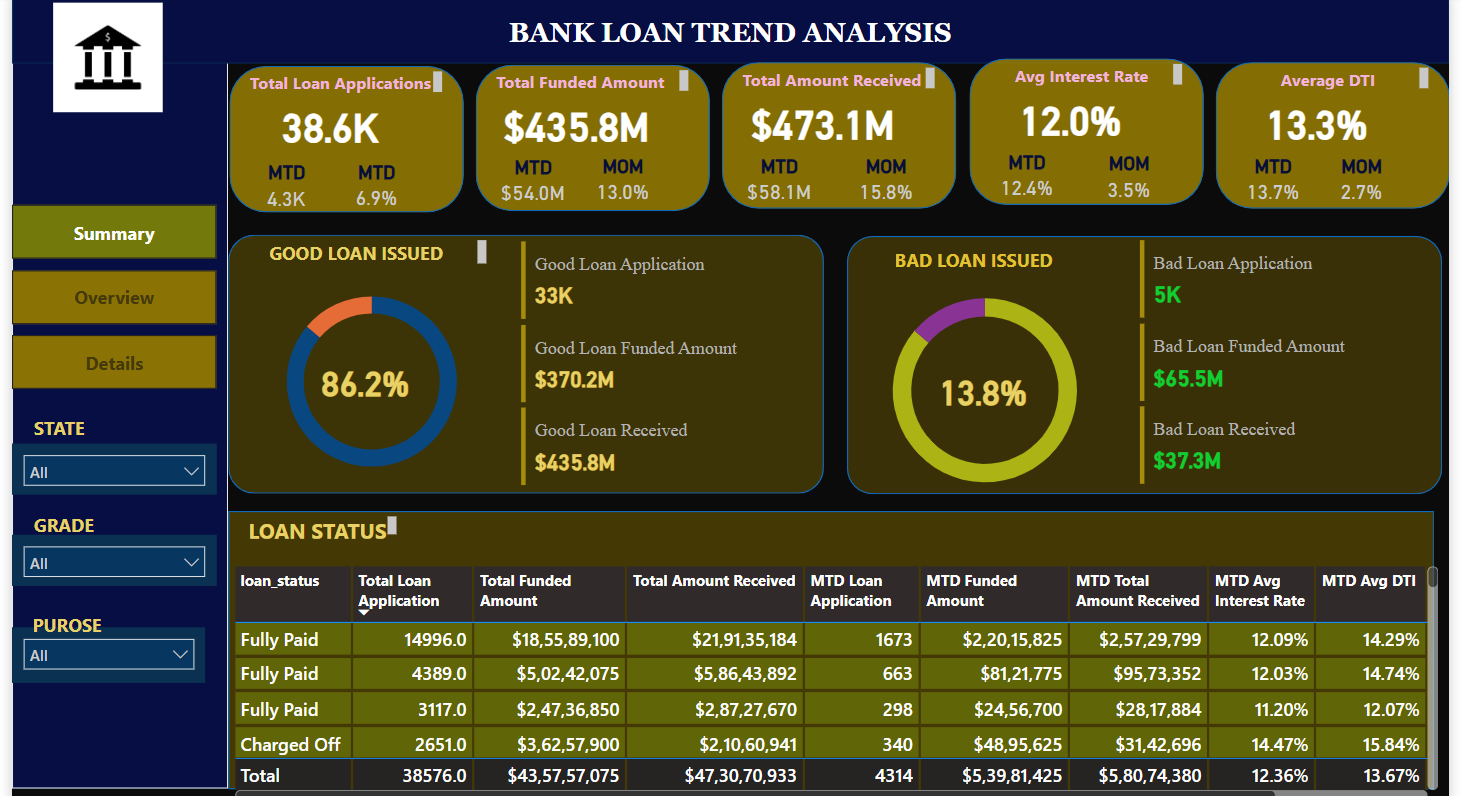

What the dashboard file says about the page in this screenshot:
{"tool":"powerbi","page":{"name":"Summary","canvas":[1280,720],"ordinal":0},"visuals":[{"type":"shape","box":[0,46.7,192.4,659.2],"z":0},{"type":"shape","box":[852.2,56,208.6,130.4],"z":0,"group":"g4"},{"type":"shape","box":[632.5,58.8,208.6,130.4],"z":0,"group":"g3"},{"type":"shape","box":[1071.5,58.8,208.6,130.4],"z":0,"group":"g5"},{"type":"shape","box":[412.9,61.6,208.6,130.4],"z":0,"group":"g2"},{"type":"shape","box":[193.8,62.2,208.6,130.4],"z":0,"group":"g1"},{"type":"card","fields":{"Values":["Bank_loan_data.Avg Interest Rate"]},"box":[864.5,84.8,155.1,48],"z":1000,"group":"g4"},{"type":"card","fields":{"Values":["Bank_loan_data.Total Amount Received"]},"box":[644.8,87.6,155.1,48],"z":1000,"group":"g3"},{"type":"card","fields":{"Values":["Bank_loan_data.Avg DTI"]},"box":[1083.8,87.6,155.1,48],"z":1000,"group":"g5"},{"type":"card","fields":{"Values":["Bank_loan_data.Total Funded Amount"]},"box":[425.2,90.4,155.1,48],"z":1000,"group":"g2"},{"type":"card","fields":{"Values":["Bank_loan_data.Total Loan Application"]},"box":[206.1,91,155.1,48],"z":1000,"group":"g1"},{"type":"shape","box":[744.1,213.6,530,230],"z":1000},{"type":"shape","box":[0,0,1280.3,60.4],"z":2000},{"type":"textbox","box":[865.9,56,181.1,28.8],"z":2000,"group":"g4"},{"type":"textbox","box":[646.2,58.8,181.1,28.8],"z":2000,"group":"g3"},{"type":"textbox","box":[1085.2,58.8,181.1,28.8],"z":2000,"group":"g5"},{"type":"textbox","box":[426.6,61.6,181.1,28.8],"z":2000,"group":"g2"},{"type":"textbox","box":[207.5,62.2,181.1,28.8],"z":2000,"group":"g1"},{"type":"card","title":"MTD","fields":{"Values":["Bank_loan_data.MTD Avg Interest Rate"]},"box":[865.9,138.3,75.5,48],"z":3000,"group":"g4"},{"type":"card","title":"MTD","fields":{"Values":["Bank_loan_data.MTD Total Amount Received"]},"box":[646.2,141.1,75.5,48],"z":3000,"group":"g3"},{"type":"card","title":"MTD","fields":{"Values":["Bank_loan_data.MTD Avg DTI"]},"box":[1085.2,141.1,75.5,48],"z":3000,"group":"g5"},{"type":"card","title":"MTD","fields":{"Values":["Bank_loan_data.MTD Loan Application"]},"box":[207.4,147.2,75,45.3],"z":3000,"group":"g1"},{"type":"card","fields":{"Values":["Bank_loan_data.Bad Loan percentage"]},"box":[816.3,326.8,97.6,48.1],"z":3000},{"type":"shape","box":[192.4,212.2,530.5,230.6],"z":4000},{"type":"card","fields":{"Values":["Bank_loan_data.Good Loan percentage"]},"box":[267.4,319.7,94.8,48.1],"z":5000},{"type":"textbox","box":[400.7,13.7,477.5,46.7],"z":6000},{"type":"group","id":"g1","title":"Group 1","box":[193.8,62.2,208,130.2],"z":7000},{"type":"card","title":"MTD","fields":{"Values":["Bank_loan_data.MOM Loan Application"]},"box":[287.2,147.1,75,48.1],"z":8000},{"type":"group","id":"g2","title":"Group 1","box":[412.9,61.6,208.6,130.4],"z":9000},{"type":"donutChart","fields":{"Category":["Bank_loan_data.Good vs Bad Loan"],"Y":["Bank_loan_data.Total Loan Application"]},"box":[741.3,243.3,250.4,215],"z":10000},{"type":"group","id":"g3","title":"Group 1","box":[632.5,58.8,208.6,130.4],"z":11000},{"type":"group","id":"g4","title":"Group 1","box":[852.2,56,208.5,130.1],"z":12000},{"type":"group","id":"g5","title":"Group 1","box":[1071.5,58.8,208.5,130.1],"z":13000},{"type":"card","title":"MTD","fields":{"Values":["Bank_loan_data.MTD Funded Amount"]},"box":[426.8,142.7,75.6,47.6],"z":14000},{"type":"card","title":"MOM","fields":{"Values":["Bank_loan_data.MOM funnded Amount"]},"box":[506.5,141.5,75,48.1],"z":15000},{"type":"card","title":"MOM","fields":{"Values":["Bank_loan_data.MOM Amount Received"]},"box":[739.9,141.5,76.4,48.1],"z":16000},{"type":"card","title":"MOM","fields":{"Values":["Bank_loan_data.MOM Avg Interest Rate"]},"box":[957.7,138.6,75,48.1],"z":17000},{"type":"card","title":"MOM","fields":{"Values":["Bank_loan_data.MOM Avg DTI"]},"box":[1164.3,141.5,75,48.1],"z":18000},{"type":"textbox","box":[193.8,212.2,233.4,31.1],"z":19000},{"type":"cardVisual","fields":{"Data":["Bank_loan_data.Good Loan Application","Bank_loan_data.Good Loan Funded Amount","Bank_loan_data.Good Loan Received"]},"box":[448.5,213.6,266,229.2],"z":20000},{"type":"donutChart","fields":{"Category":["Bank_loan_data.Good vs Bad Loan"],"Y":["Bank_loan_data.Total Loan Application"]},"box":[192.4,243.3,256.1,199.5],"z":21000},{"type":"textbox","box":[771,219.3,169.8,48.1],"z":22000},{"type":"cardVisual","fields":{"Data":["Bank_loan_data.Bad Loan Application","Bank_loan_data.Bad Loan Funded Amount","Bank_loan_data.Bad Loan Received"]},"box":[1000.2,212.2,266,229.2],"z":23000},{"type":"shape","box":[192.3,458.6,1073.8,247.8],"z":24000},{"type":"tableEx","fields":{"Values":["Bank_loan_data.loan_status","Bank_loan_data.Total Loan Application","Bank_loan_data.Total Funded Amount","Bank_loan_data.Total Amount Received","Bank_loan_data.MTD Loan Application","Bank_loan_data.MTD Funded Amount","Bank_loan_data.MTD Total Amount Received","Bank_loan_data.MTD Avg Interest Rate","Bank_loan_data.MTD Avg DTI","Bank_loan_data.purpose"]},"box":[192.3,502.7,1082.3,217.9],"z":25000},{"type":"textbox","box":[205.1,458.6,142.4,29.9],"z":26000},{"type":"slicer","fields":{"Values":["Bank_loan_data.address_state"]},"box":[0,398.8,182.3,45.6],"z":27000},{"type":"textbox","box":[14.2,455.7,82.6,37],"z":28000},{"type":"slicer","fields":{"Values":["Bank_loan_data.grade"]},"box":[0,479.9,182.3,45.6],"z":29000},{"type":"textbox","box":[14.2,368.8,82.6,37],"z":30000},{"type":"slicer","fields":{"Values":["Bank_loan_data.purpose"]},"box":[0,562.5,172.3,49.8],"z":31000},{"type":"textbox","box":[8.5,544,88.3,37],"z":32000},{"type":"image","box":[27.7,1.2,114.6,107.4],"z":33000},{"type":"pageNavigator","box":[0,185.8,182.2,165.3],"z":34000}]}

Visuals, with their boxes on the page's 1280x720 design canvas (x1, y1, x2, y2). These are canvas units, not pixel positions in the 1461x796 screenshot, which may show the page scaled, cropped or inside an application window:
shape: 0, 47, 192, 706
shape: 852, 56, 1061, 186
shape: 632, 59, 841, 189
shape: 1072, 59, 1280, 189
shape: 413, 62, 622, 192
shape: 194, 62, 402, 193
card - Bank_loan_data.Avg Interest Rate: 864, 85, 1020, 133
card - Bank_loan_data.Total Amount Received: 645, 88, 800, 136
card - Bank_loan_data.Avg DTI: 1084, 88, 1239, 136
card - Bank_loan_data.Total Funded Amount: 425, 90, 580, 138
card - Bank_loan_data.Total Loan Application: 206, 91, 361, 139
shape: 744, 214, 1274, 444
shape: 0, 0, 1280, 60
textbox: 866, 56, 1047, 85
textbox: 646, 59, 827, 88
textbox: 1085, 59, 1266, 88
textbox: 427, 62, 608, 90
textbox: 208, 62, 389, 91
"MTD" card: 866, 138, 941, 186
"MTD" card: 646, 141, 722, 189
"MTD" card: 1085, 141, 1161, 189
"MTD" card: 207, 147, 282, 192
card - Bank_loan_data.Bad Loan percentage: 816, 327, 914, 375
shape: 192, 212, 723, 443
card - Bank_loan_data.Good Loan percentage: 267, 320, 362, 368
textbox: 401, 14, 878, 60
"Group 1" group: 194, 62, 402, 192
"MTD" card: 287, 147, 362, 195
"Group 1" group: 413, 62, 622, 192
donutChart - Bank_loan_data.Good vs Bad Loan x Bank_loan_data.Total Loan Application: 741, 243, 992, 458
"Group 1" group: 632, 59, 841, 189
"Group 1" group: 852, 56, 1061, 186
"Group 1" group: 1072, 59, 1280, 189
"MTD" card: 427, 143, 502, 190
"MOM" card: 506, 142, 582, 190
"MOM" card: 740, 142, 816, 190
"MOM" card: 958, 139, 1033, 187
"MOM" card: 1164, 142, 1239, 190
textbox: 194, 212, 427, 243
cardVisual - Bank_loan_data.Good Loan Application x Bank_loan_data.Good Loan Funded Amount: 448, 214, 714, 443
donutChart - Bank_loan_data.Good vs Bad Loan x Bank_loan_data.Total Loan Application: 192, 243, 448, 443
textbox: 771, 219, 941, 267
cardVisual - Bank_loan_data.Bad Loan Application x Bank_loan_data.Bad Loan Funded Amount: 1000, 212, 1266, 441
shape: 192, 459, 1266, 706
tableEx - Bank_loan_data.loan_status x Bank_loan_data.Total Loan Application: 192, 503, 1275, 721
textbox: 205, 459, 348, 488
slicer - Bank_loan_data.address_state: 0, 399, 182, 444
textbox: 14, 456, 97, 493
slicer - Bank_loan_data.grade: 0, 480, 182, 526
textbox: 14, 369, 97, 406
slicer - Bank_loan_data.purpose: 0, 562, 172, 612
textbox: 8, 544, 97, 581
image: 28, 1, 142, 109
pageNavigator: 0, 186, 182, 351
